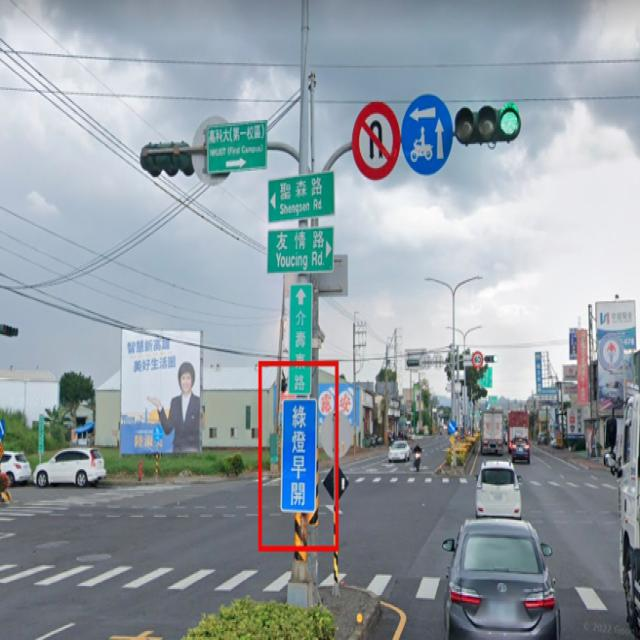green light: (453, 102, 522, 146)
